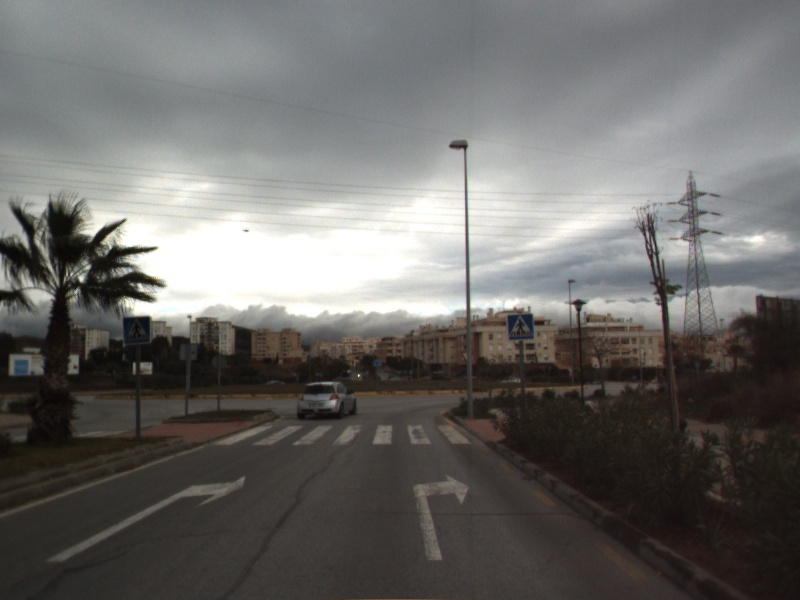RIGHT: (43, 473, 247, 565), (410, 472, 472, 563)
